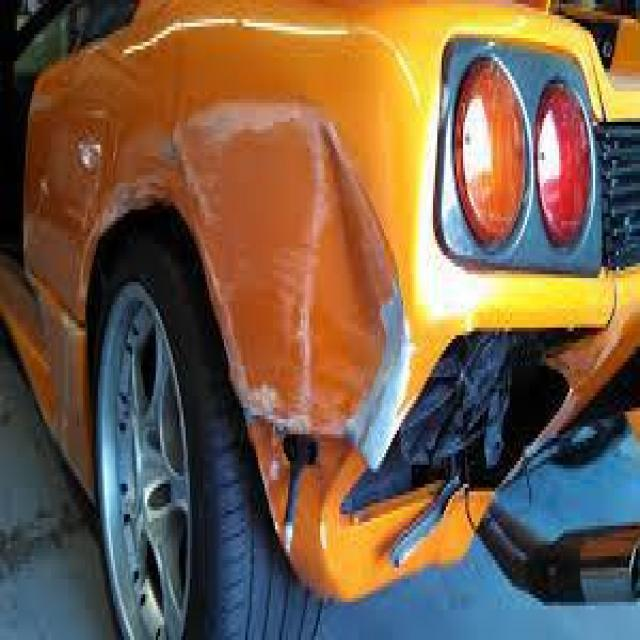damaged: (232, 324, 591, 579), (162, 103, 423, 354), (46, 148, 165, 496)
